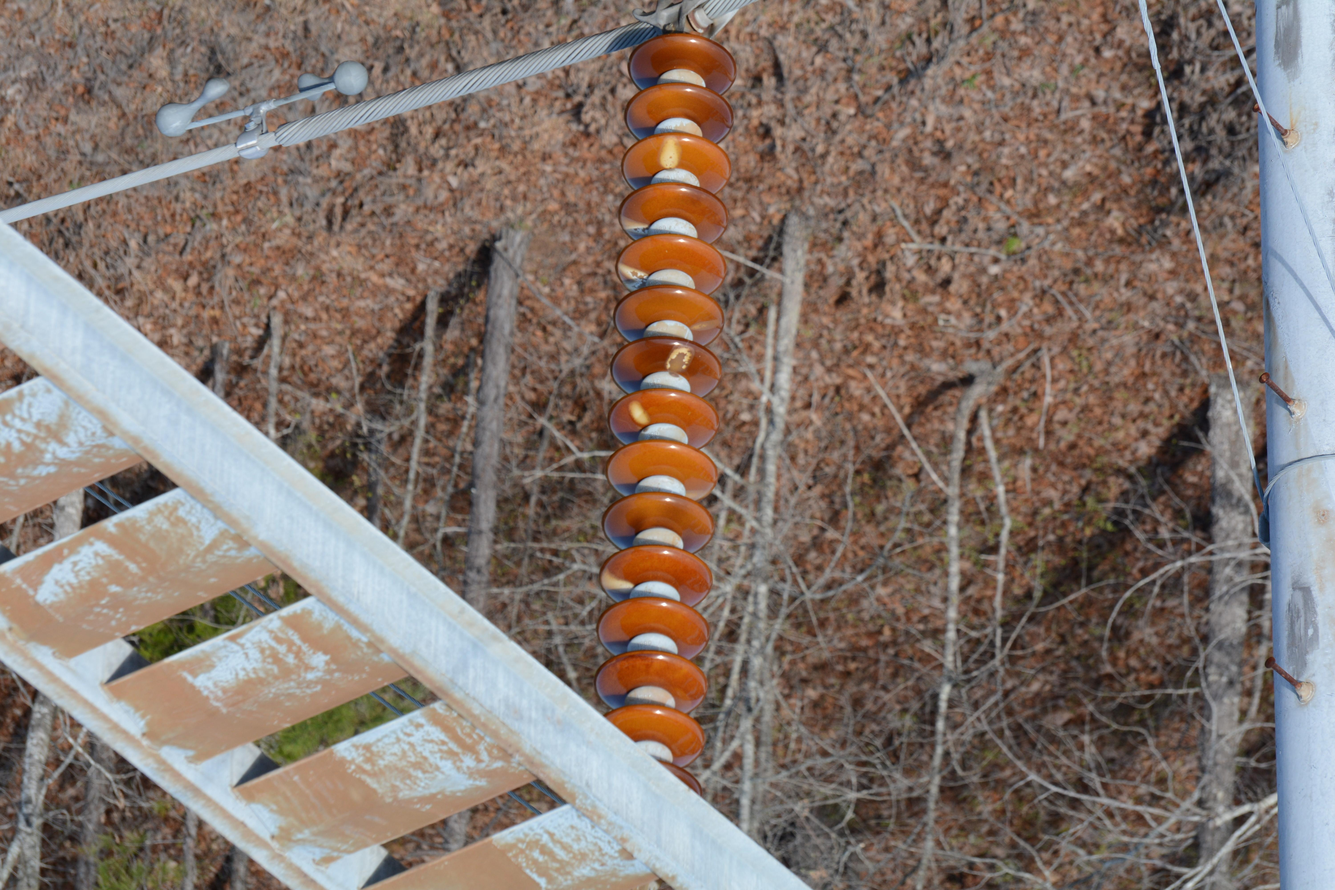Flashover: (661, 342, 697, 381), (615, 260, 653, 295), (598, 565, 636, 598), (618, 214, 653, 243), (656, 134, 684, 169), (623, 400, 653, 427)
hammer: (157, 58, 369, 167)
insulator: (594, 32, 734, 797)
